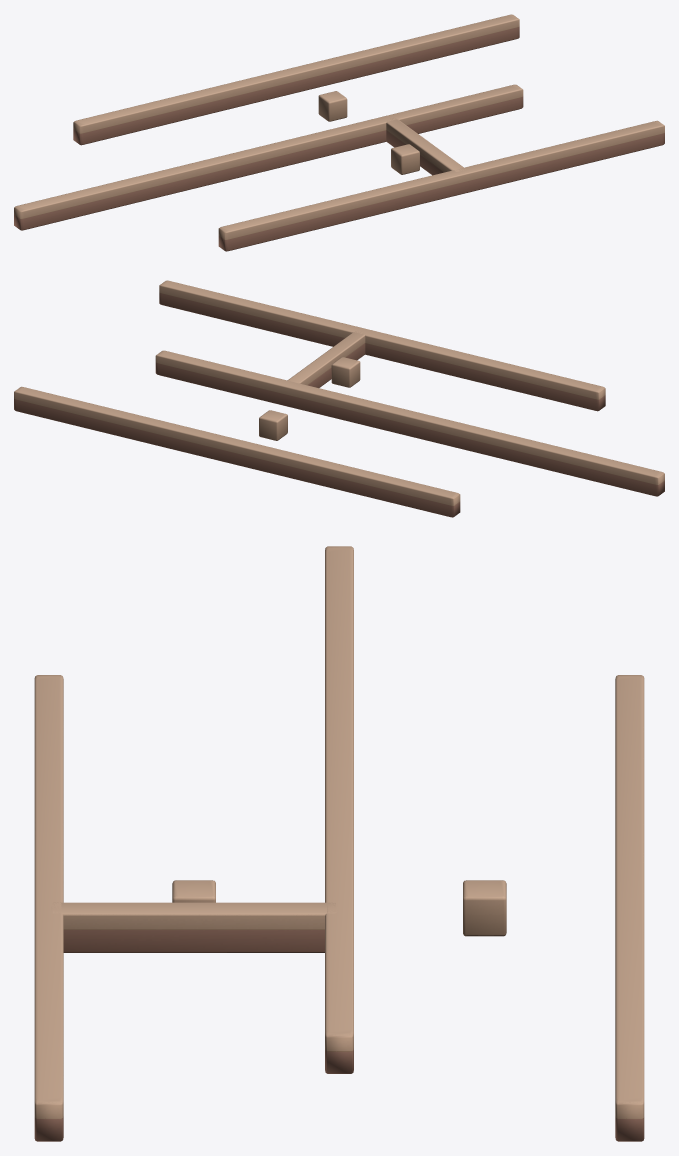
The model's file is Props.fbx.
The picture shows the model from 3 angles, top to bottom: view 1: azimuth 30°, elevation 25°; view 2: azimuth 150°, elevation 25°; view 3: azimuth 270°, elevation 25°; orthographic projection. The views are drawn at different scales.
Visible parts, largest first — view 1: Box20-3_1 (2), Box20-3_1 (4), Box20-3_1 (3), Box20-3_1 (5), Box1-5 (8), Box1-5 (7); view 2: Box20-3_1 (2), Box20-3_1 (4), Box20-3_1 (3), Box20-3_1 (5), Box1-5 (7), Box1-5 (8); view 3: Box20-3_1 (2), Box20-3_1 (4), Box20-3_1 (3), Box20-3_1 (5), Box1-5 (8), Box1-5 (7).
Boxes of the visible parts, left/top/right/bottom form: Box20-3_1 (2): left=14, top=84, right=523, bottom=230; Box20-3_1 (4): left=73, top=14, right=519, bottom=145; Box20-3_1 (3): left=218, top=120, right=664, bottom=251; Box20-3_1 (5): left=386, top=117, right=465, bottom=175; Box1-5 (8): left=318, top=91, right=347, bottom=121; Box1-5 (7): left=391, top=144, right=419, bottom=174; Box20-3_1 (2): left=155, top=350, right=664, bottom=496; Box20-3_1 (4): left=14, top=386, right=460, bottom=517; Box20-3_1 (3): left=159, top=280, right=605, bottom=411; Box20-3_1 (5): left=287, top=331, right=365, bottom=387; Box1-5 (7): left=331, top=357, right=360, bottom=387; Box1-5 (8): left=259, top=410, right=287, bottom=440; Box20-3_1 (2): left=325, top=546, right=353, bottom=1073; Box20-3_1 (4): left=615, top=675, right=644, bottom=1141; Box20-3_1 (3): left=34, top=675, right=63, bottom=1141; Box20-3_1 (5): left=51, top=902, right=336, bottom=952; Box1-5 (8): left=463, top=880, right=506, bottom=936; Box1-5 (7): left=172, top=880, right=215, bottom=902.
Size of the model in its own units: 45.5 by 1.5 by 21.
Materials: 1 (1 with a texture image).
